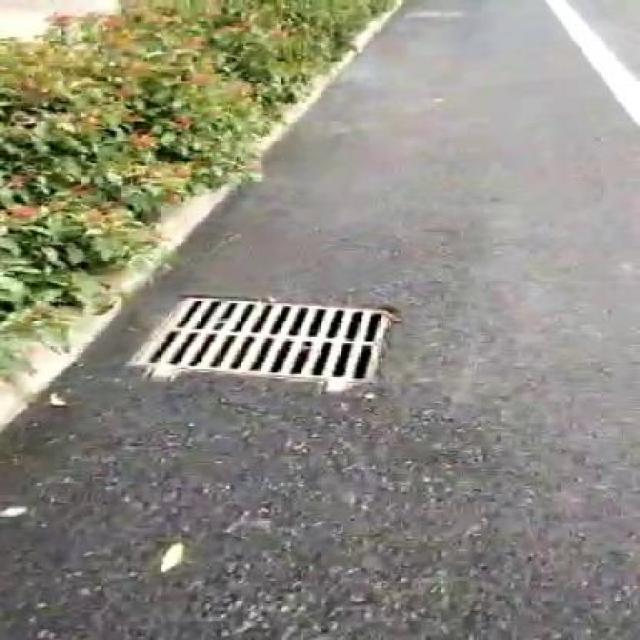Manhole: (125, 297, 404, 388)
